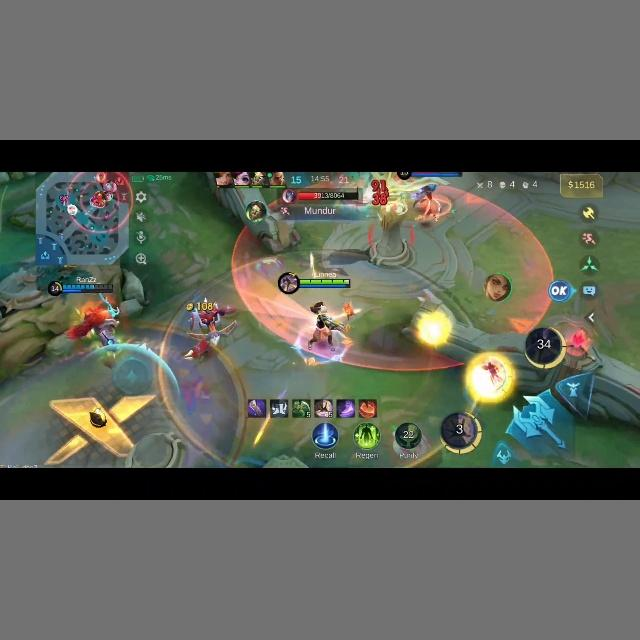hp_enemy: (400, 171, 462, 182), (298, 189, 355, 199)
hp_self: (277, 273, 351, 293), (47, 280, 110, 295)
minion_enemy: (184, 300, 234, 338), (186, 330, 220, 360)
